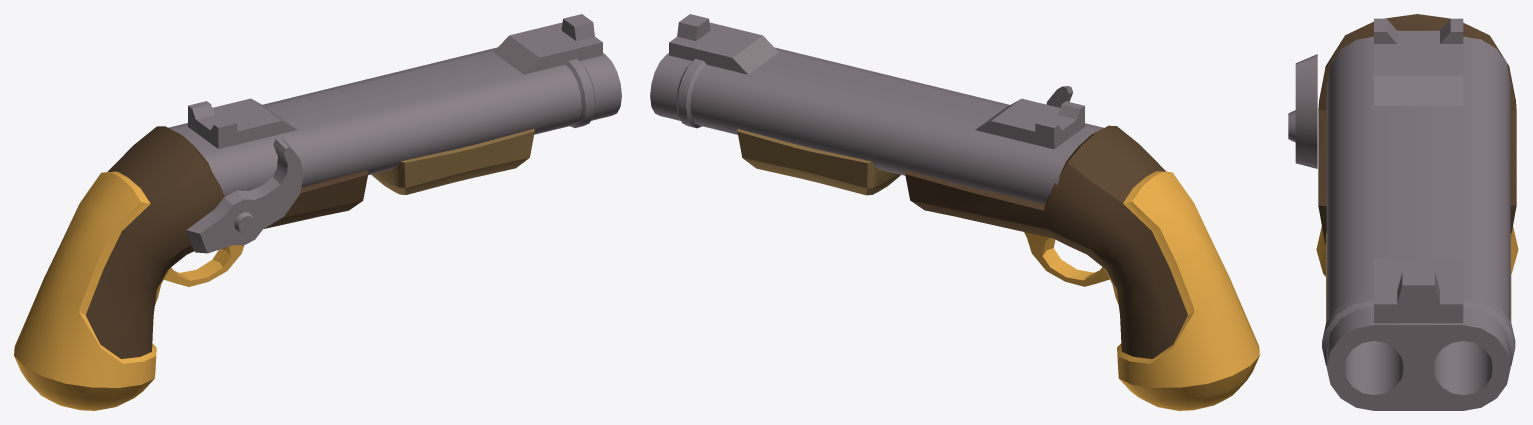
Rendered from Double Shotgun.glb.
3 views of the same model, side by side, from view 1: azimuth 30°, elevation 25°; view 2: azimuth 150°, elevation 25°; view 3: azimuth 270°, elevation 25° (orthographic). The views are drawn at different scales.
Visible parts, largest first — view 1: Weapon_DoubleShotgun; view 2: Weapon_DoubleShotgun; view 3: Weapon_DoubleShotgun.
Part boxes in pixels (bbox=[...]): Weapon_DoubleShotgun: bbox=[14, 14, 621, 410]; Weapon_DoubleShotgun: bbox=[650, 14, 1259, 410]; Weapon_DoubleShotgun: bbox=[1288, 14, 1518, 410].
Bounding box in the file's own units: 1.58 × 0.6987 × 0.3802.
1 material, 1 textured.
